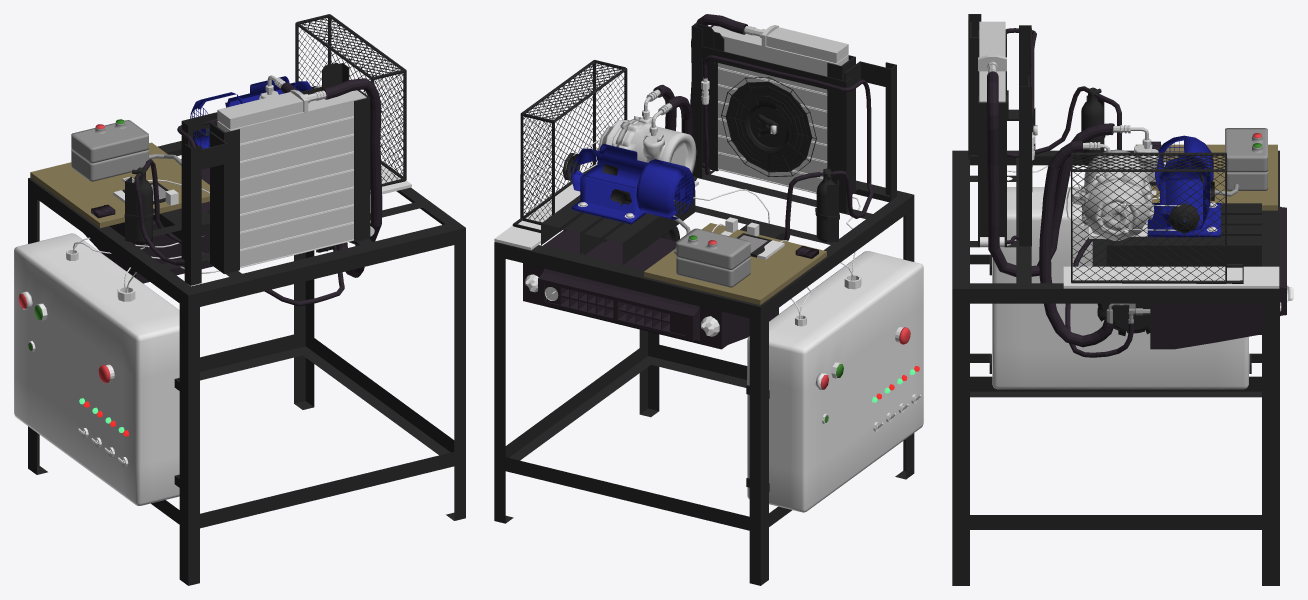
Rendered from acc4.glb.
The picture shows the model from 3 angles, left to right: view 1: azimuth 30°, elevation 25°; view 2: azimuth 150°, elevation 25°; view 3: azimuth 270°, elevation 25°; orthographic projection. The views are drawn at different scales.
Visible parts, largest first — view 1: 3.jpg, Cube.004, fan cooler, papan, 3 palang.002, Plane.015, Plane.035, Plane.022, Plane.046, Plane.011, Plane.003, Plane.007 (+16 smaller); view 2: 3.jpg, Cube.004, Cube, 3 palang.002, Plane.024, kipas1, papan, 3.jpg.001, fan cooler, Plane.051, Cylinder, Plane.047 (+19 smaller); view 3: 3.jpg, Cube.004, 3.jpg.001, Cube, Plane.051, Cube.009, Plane.024, 3 palang.002, Plane.035, Plane.036, fan cooler, Plane.047 (+15 smaller).
Boxes of the visible parts, x1,y1,x2,y2 form: 3.jpg: [28, 141, 465, 585]; Cube.004: [14, 233, 179, 505]; fan cooler: [210, 90, 370, 273]; papan: [30, 142, 209, 228]; 3 palang.002: [125, 63, 349, 285]; Plane.015: [217, 90, 366, 143]; Plane.035: [281, 78, 382, 245]; Plane.022: [71, 120, 148, 163]; Plane.046: [217, 89, 326, 129]; Plane.011: [240, 135, 353, 178]; Plane.003: [240, 205, 353, 249]; Plane.007: [240, 170, 353, 213]; 3.jpg: [494, 168, 914, 585]; Cube.004: [747, 251, 923, 512]; Cube: [523, 230, 778, 349]; 3 palang.002: [691, 22, 896, 242]; Plane.024: [571, 144, 694, 224]; kipas1: [726, 82, 811, 171]; papan: [644, 223, 826, 304]; 3.jpg.001: [541, 190, 695, 265]; fan cooler: [702, 25, 855, 194]; Plane.051: [521, 64, 594, 214]; Cylinder: [612, 116, 696, 173]; Plane.047: [512, 60, 627, 232]; 3.jpg: [952, 150, 1279, 585]; Cube.004: [992, 187, 1248, 389]; 3.jpg.001: [1106, 203, 1261, 266]; Cube: [1150, 206, 1286, 349]; Plane.051: [1072, 172, 1225, 280]; Cube.009: [1063, 266, 1279, 288]; Plane.024: [1147, 135, 1220, 237]; 3 palang.002: [968, 14, 1104, 246]; Plane.035: [987, 71, 1114, 276]; Plane.036: [1039, 140, 1115, 347]; fan cooler: [978, 30, 1006, 247]; Plane.047: [1071, 152, 1243, 283].
Bounding box in the file's own units: 10.21 × 13.82 × 9.29.
